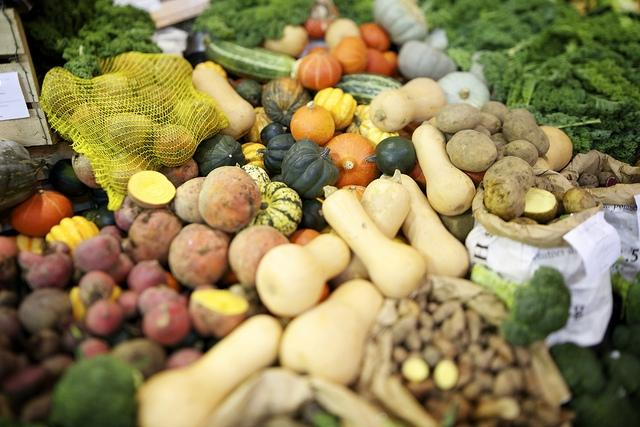broccoli: (470, 263, 571, 347), (48, 353, 144, 427), (550, 342, 606, 414), (606, 352, 640, 393), (615, 322, 640, 356), (626, 284, 640, 324)
potato: (483, 155, 536, 222), (446, 129, 498, 173), (502, 111, 550, 157), (436, 104, 482, 133), (522, 187, 558, 224), (502, 140, 538, 168), (563, 187, 596, 214), (480, 101, 510, 123), (478, 112, 502, 134), (492, 132, 509, 161), (531, 176, 551, 192), (472, 124, 492, 139)
pumpkin: (236, 181, 303, 237), (321, 132, 384, 190), (282, 139, 340, 200), (10, 188, 74, 237), (406, 156, 488, 190), (372, 0, 434, 44), (262, 77, 312, 127), (397, 40, 457, 81), (44, 216, 100, 257), (193, 134, 246, 176), (290, 100, 335, 146), (68, 284, 121, 323), (365, 136, 416, 176), (436, 72, 489, 110), (314, 87, 358, 131), (255, 133, 298, 175), (297, 52, 343, 90), (290, 282, 330, 321), (264, 24, 308, 56), (334, 36, 368, 76), (242, 142, 276, 180), (325, 18, 361, 51), (468, 49, 494, 94), (346, 104, 380, 137), (296, 199, 328, 232), (247, 107, 274, 144), (358, 22, 391, 52), (8, 233, 46, 256), (366, 47, 392, 77), (301, 16, 333, 40), (241, 164, 271, 187), (424, 29, 448, 51), (337, 184, 366, 202), (290, 229, 320, 246), (398, 124, 420, 142), (165, 272, 179, 292)
